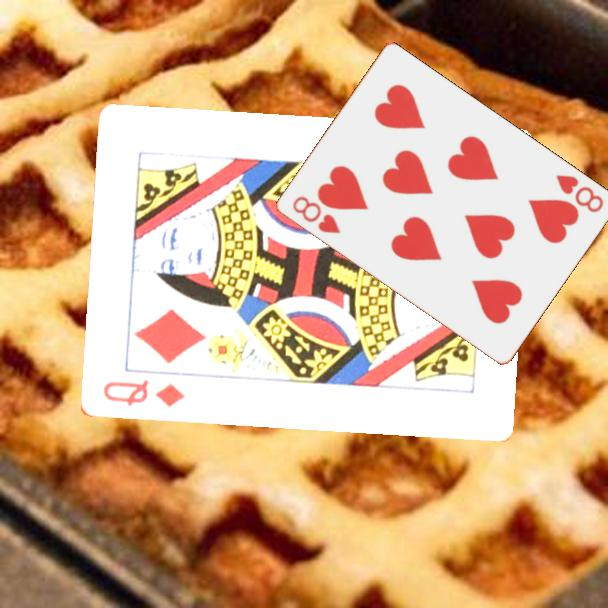d12: (99, 376, 187, 410)
h08: (288, 192, 343, 237), (552, 171, 606, 216)
